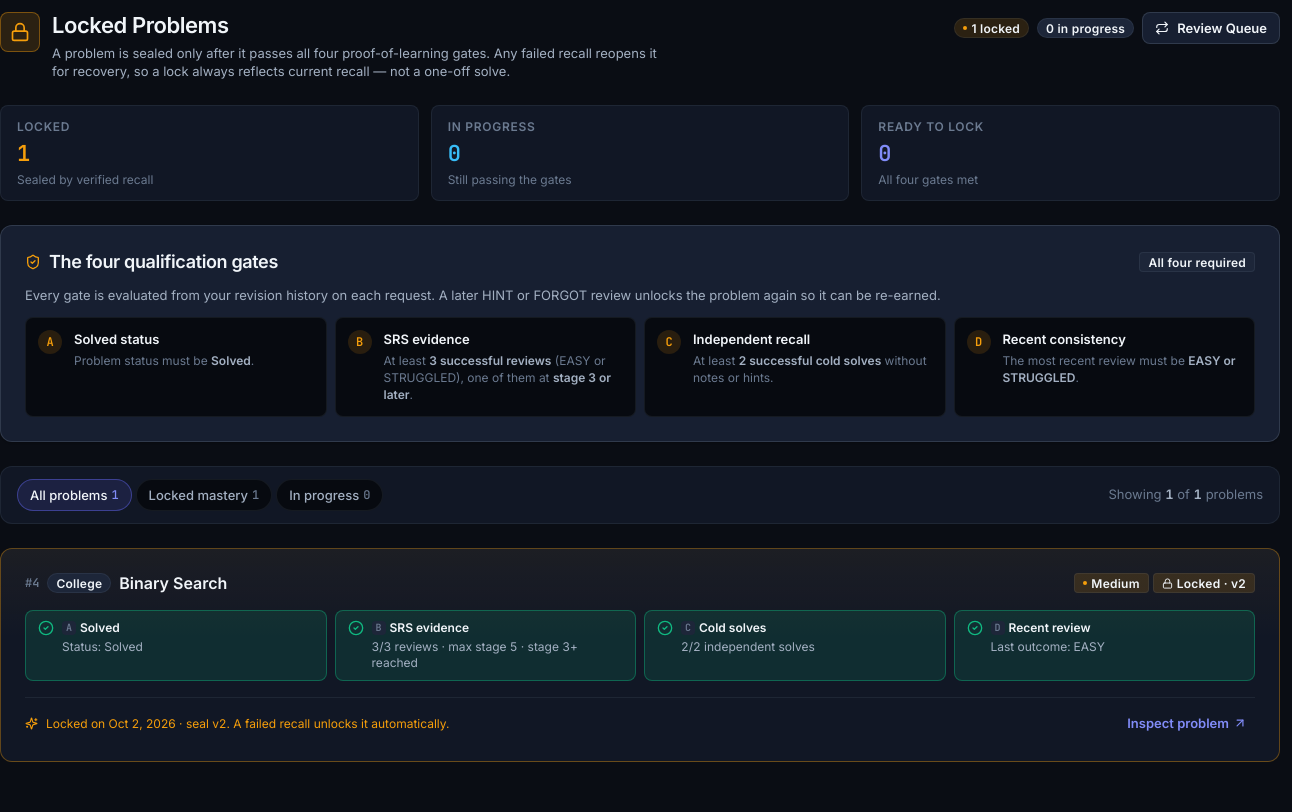
Scenario: LockedProblemsPage (Locked Mastery redesign) › offers the locked filter when every tracked problem is already sealed
This screenshot has width=1292, height=812.
Check: the link "Binary Search" is shown, box [119,573,227,594]
Click the button "In progress 0".
click(330, 495)  # box [276,479,383,511]
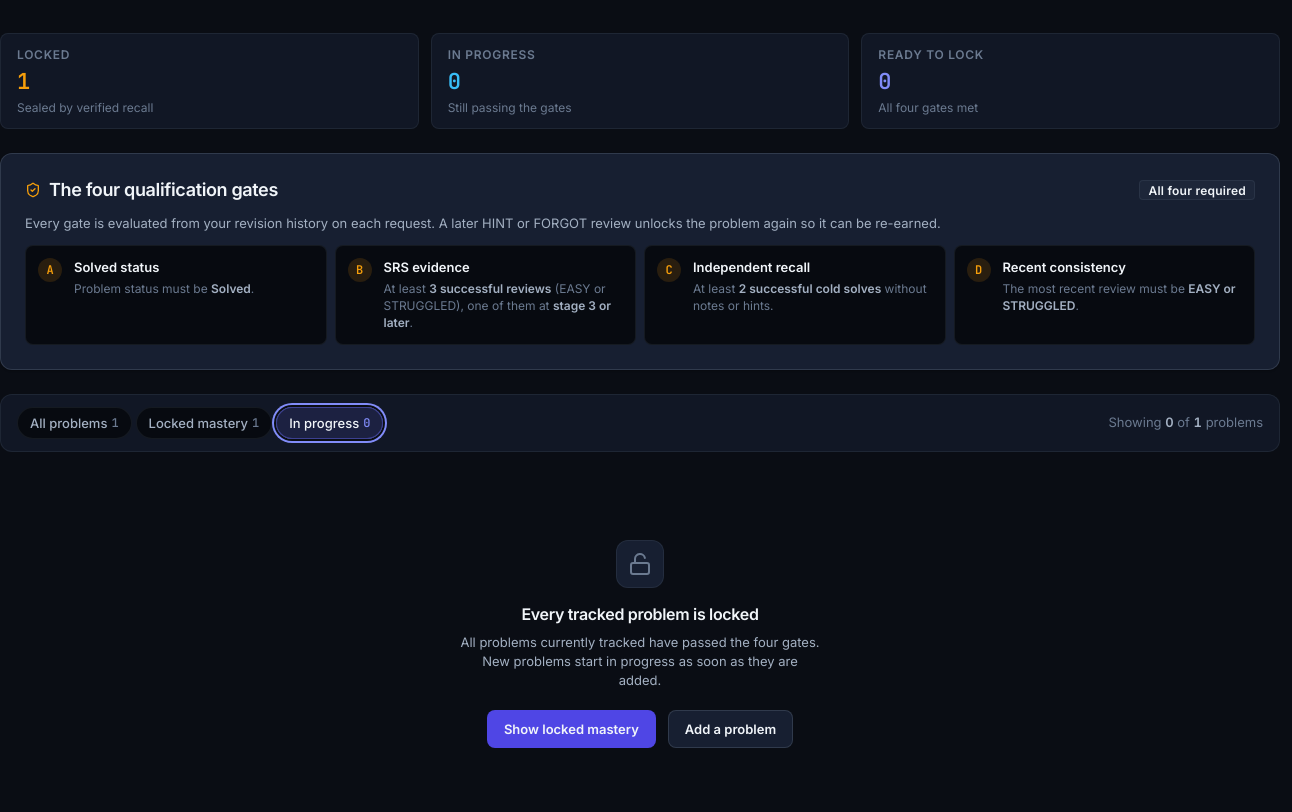
Check: the heading "Every tracked problem is locked" is shown, box [521,604,759,625]
Click the button "Show locked mastery".
click(571, 729)  # box [487,710,656,748]
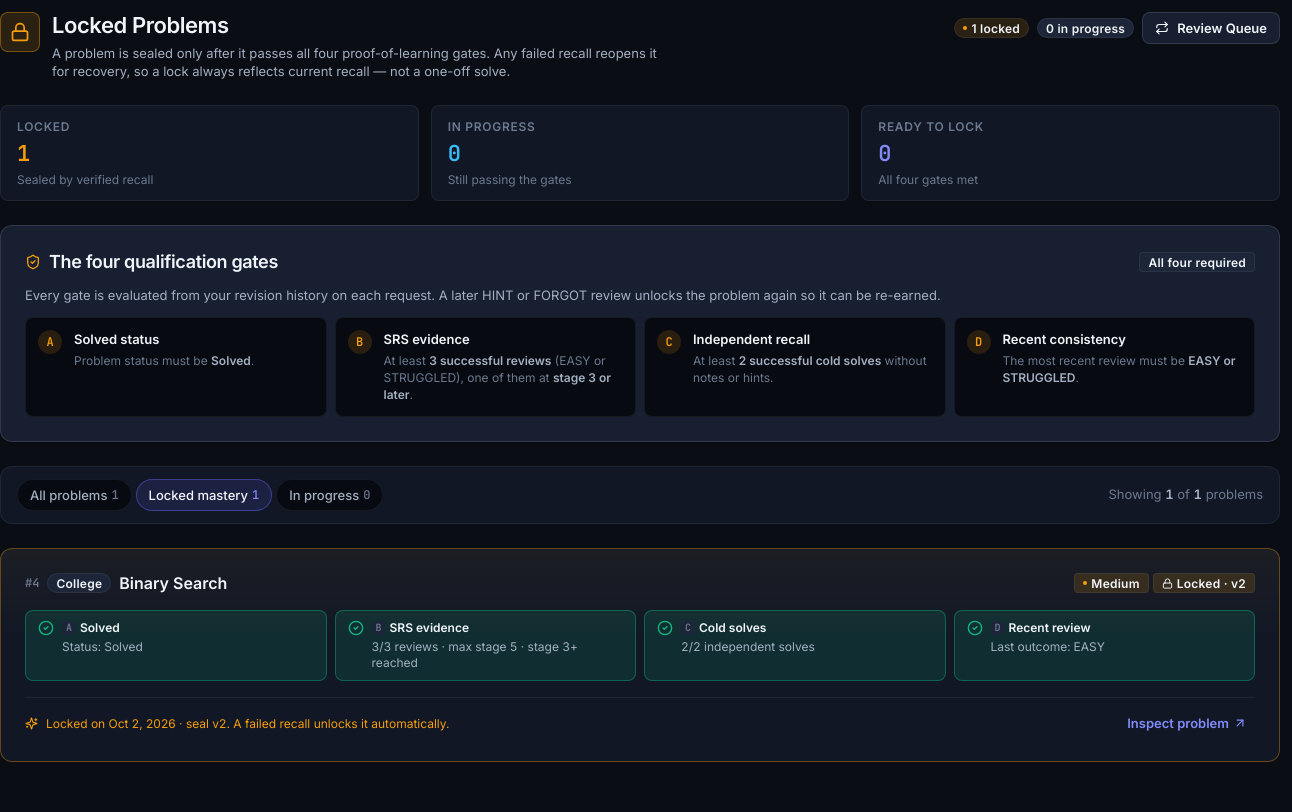
Check: the link "Binary Search" is shown, box [119,573,227,594]
